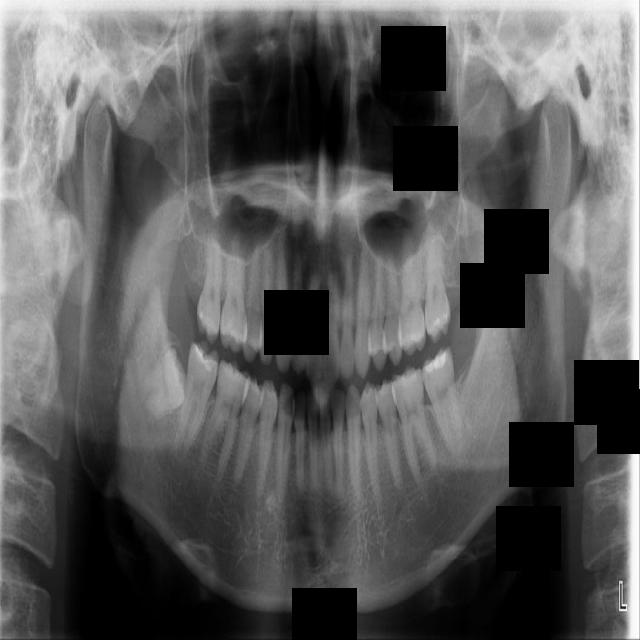52: (189, 343, 214, 373), (423, 351, 451, 375)
73: (576, 564, 586, 580)
BioHorizons Implant: (420, 215, 452, 345)
Blue Sky Bio Implant: (418, 346, 466, 458)
Caries: (192, 226, 232, 345)
Implant: (170, 339, 223, 457)
Keystone Dental Implant: (133, 346, 194, 418)
